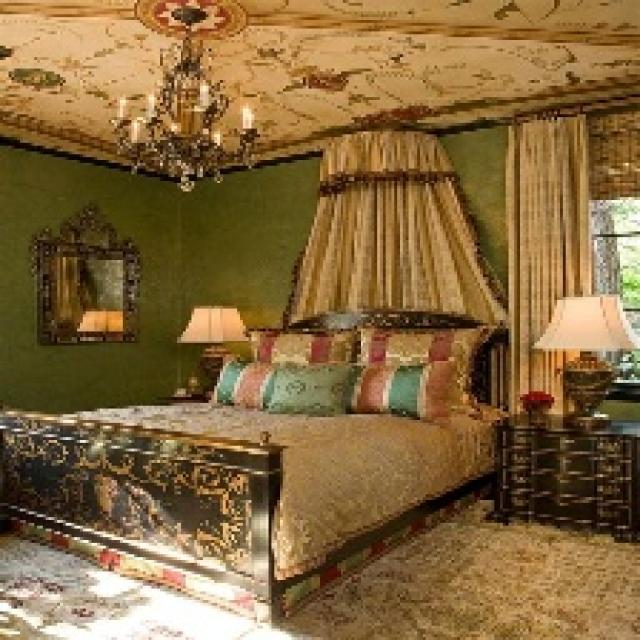Bed: (0, 308, 509, 626)
